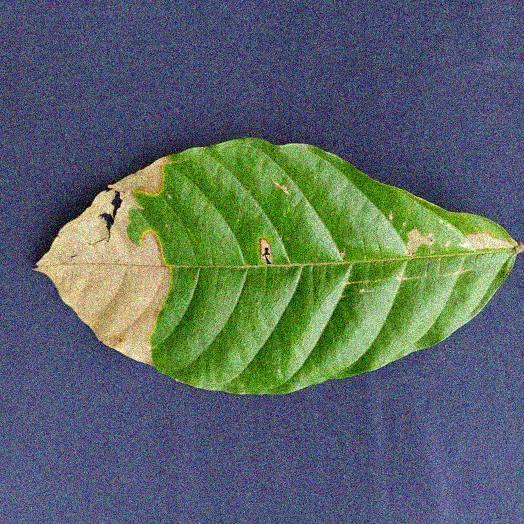Potassium: (35, 138, 523, 394)
